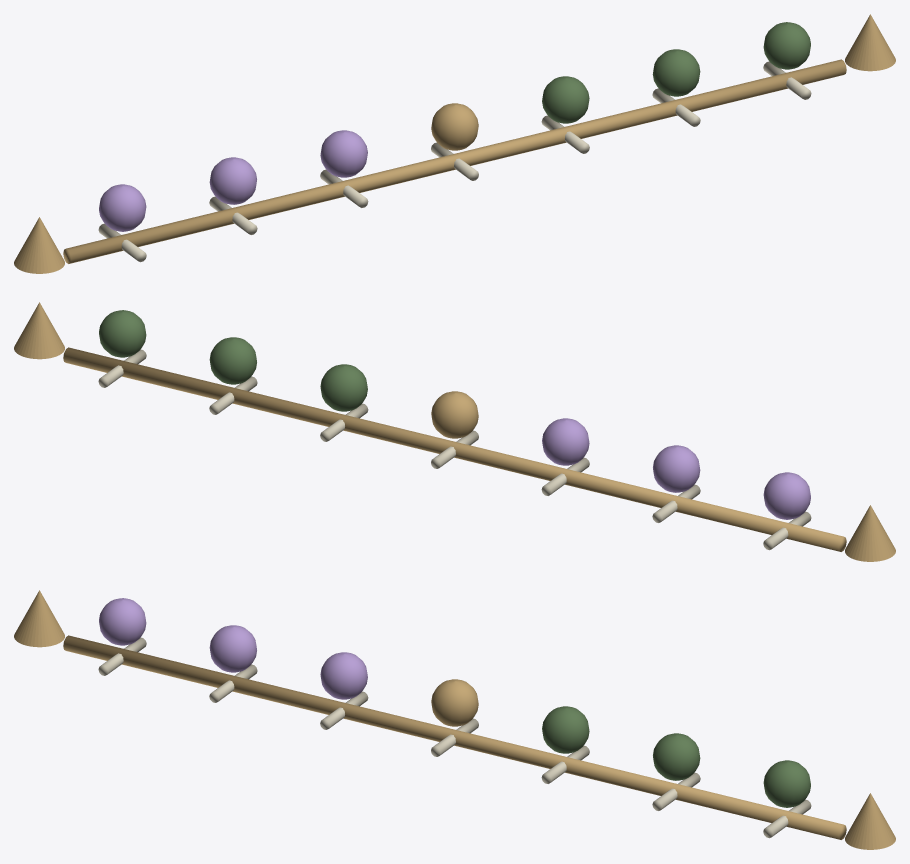
Rendered from numberline.glb.
The picture shows the model from 3 angles, top to bottom: view 1: azimuth 30°, elevation 25°; view 2: azimuth 150°, elevation 25°; view 3: azimuth 330°, elevation 25°; orthographic projection.
Visible parts, largest first — view 1: numberline_axis, numberline_integer_2, numberline_integer_1, numberline_integer_-1, numberline_integer_-2, numberline_integer_-3, numberline_integer_3, numberline_integer_0, numberline_arrow, numberline_arrow.001; view 2: numberline_axis, numberline_integer_1, numberline_integer_2, numberline_integer_-1, numberline_integer_-2, numberline_integer_-3, numberline_integer_3, numberline_integer_0, numberline_arrow, numberline_arrow.001; view 3: numberline_axis, numberline_integer_1, numberline_integer_2, numberline_integer_-1, numberline_integer_-2, numberline_integer_3, numberline_integer_-3, numberline_integer_0, numberline_arrow.001, numberline_arrow.
Boxes of the visible parts, left/top/right/bottom form: numberline_axis: left=63, top=59, right=846, bottom=263; numberline_integer_2: left=652, top=49, right=700, bottom=96; numberline_integer_1: left=542, top=76, right=589, bottom=123; numberline_integer_-1: left=320, top=130, right=367, bottom=177; numberline_integer_-2: left=209, top=157, right=256, bottom=204; numberline_integer_-3: left=99, top=184, right=146, bottom=231; numberline_integer_3: left=763, top=22, right=810, bottom=69; numberline_integer_0: left=431, top=103, right=478, bottom=150; numberline_arrow: left=14, top=217, right=64, bottom=273; numberline_arrow.001: left=845, top=14, right=895, bottom=71; numberline_axis: left=63, top=347, right=846, bottom=551; numberline_integer_1: left=320, top=364, right=367, bottom=411; numberline_integer_2: left=209, top=337, right=256, bottom=384; numberline_integer_-1: left=542, top=418, right=589, bottom=465; numberline_integer_-2: left=653, top=445, right=700, bottom=492; numberline_integer_-3: left=763, top=472, right=810, bottom=519; numberline_integer_3: left=99, top=310, right=146, bottom=357; numberline_integer_0: left=431, top=391, right=478, bottom=438; numberline_arrow: left=845, top=505, right=895, bottom=561; numberline_arrow.001: left=14, top=302, right=64, bottom=359; numberline_axis: left=63, top=635, right=846, bottom=839; numberline_integer_1: left=542, top=706, right=589, bottom=753; numberline_integer_2: left=653, top=733, right=700, bottom=780; numberline_integer_-1: left=320, top=652, right=367, bottom=699; numberline_integer_-2: left=209, top=625, right=256, bottom=672; numberline_integer_3: left=763, top=760, right=810, bottom=807; numberline_integer_-3: left=99, top=598, right=146, bottom=645; numberline_integer_0: left=431, top=679, right=478, bottom=726; numberline_arrow.001: left=845, top=793, right=895, bottom=849; numberline_arrow: left=14, top=590, right=64, bottom=647.
Size of the model in its own units: 3.16 by 0.2188 by 0.24.
